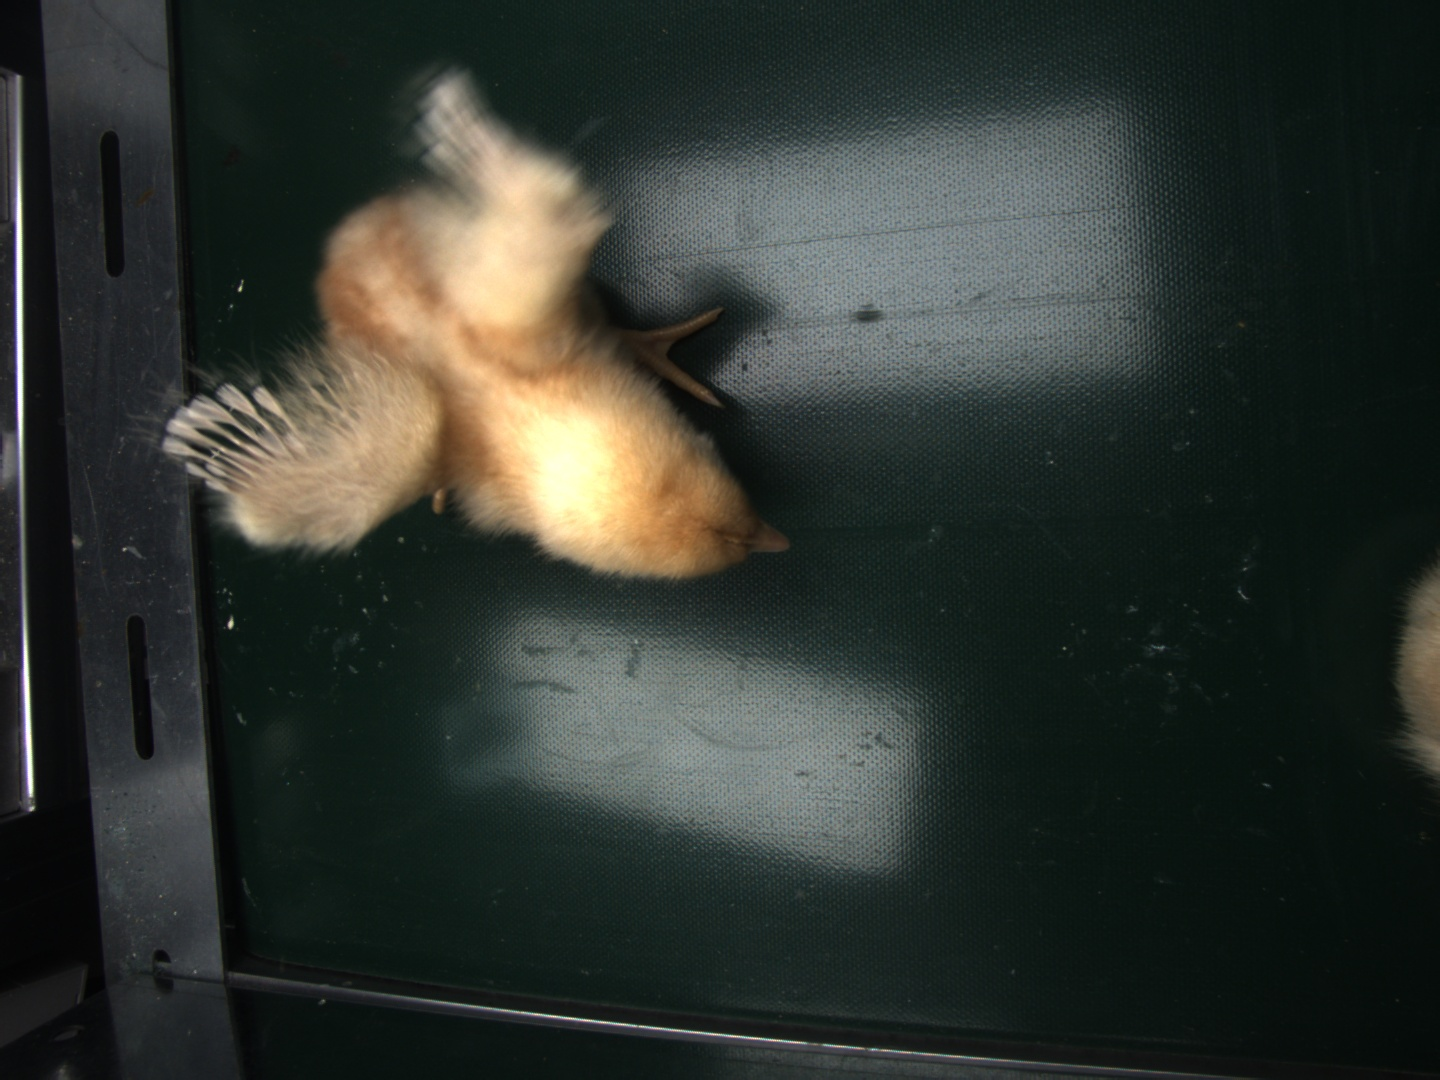female: (164, 383, 288, 493)
